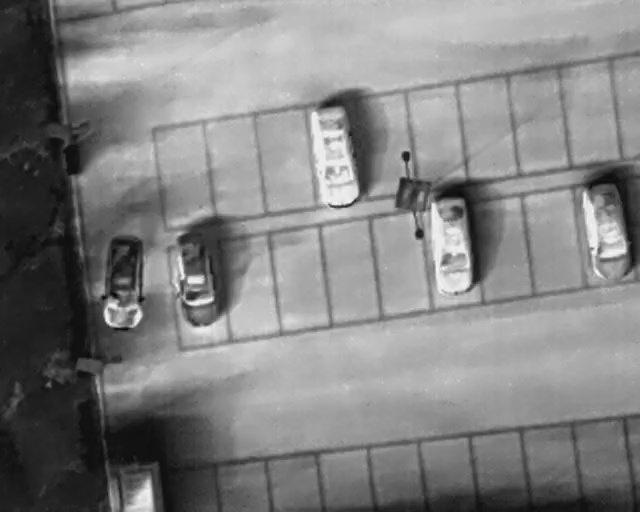Car: (577, 179, 638, 282), (307, 104, 363, 212), (170, 225, 220, 329), (427, 195, 473, 295), (102, 235, 144, 329)
